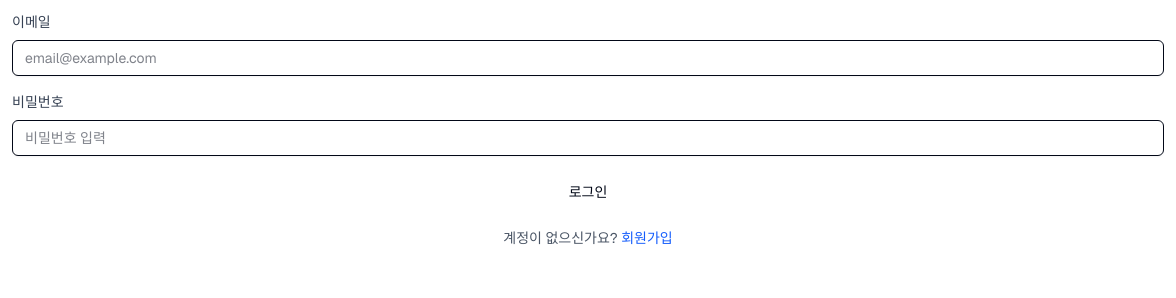
LoginForm › 로그인 실패 › 실패 시 에러 메시지를 표시한다
Type "wrong@example.com" into the field labelled "이메일".
click(588, 58); type("wrong@example.com")  # box [12,40,1164,76]
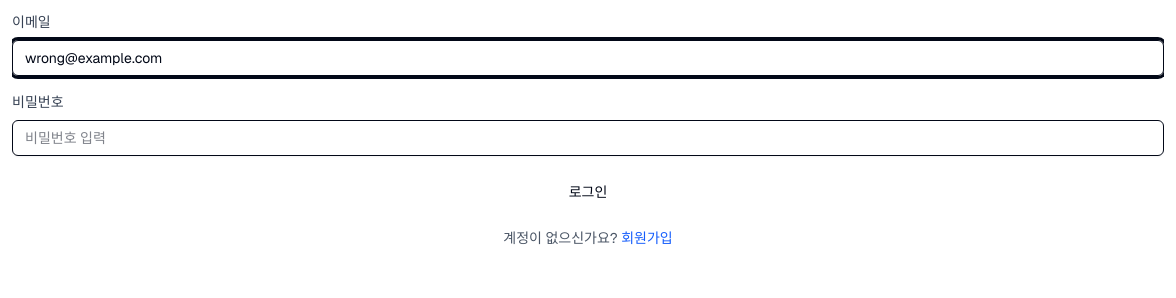
Type "wrongpassword" into the password field labelled "비밀번호".
click(588, 138); type("wrongpassword")  # box [12,120,1164,156]
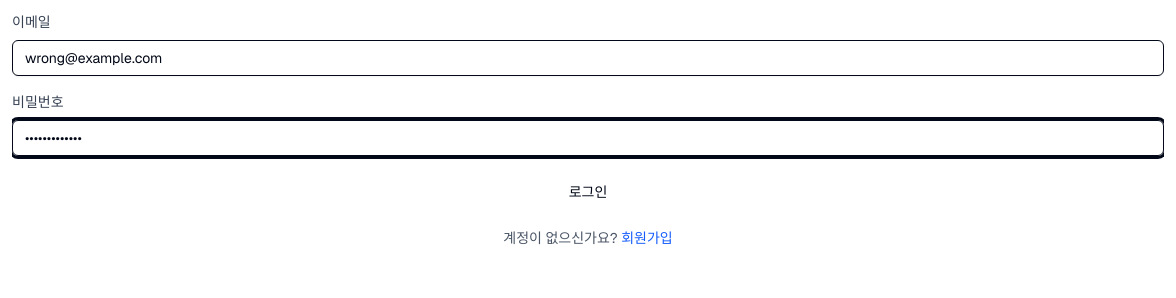
Click the button "로그인".
click(588, 192)  # box [12,172,1164,212]
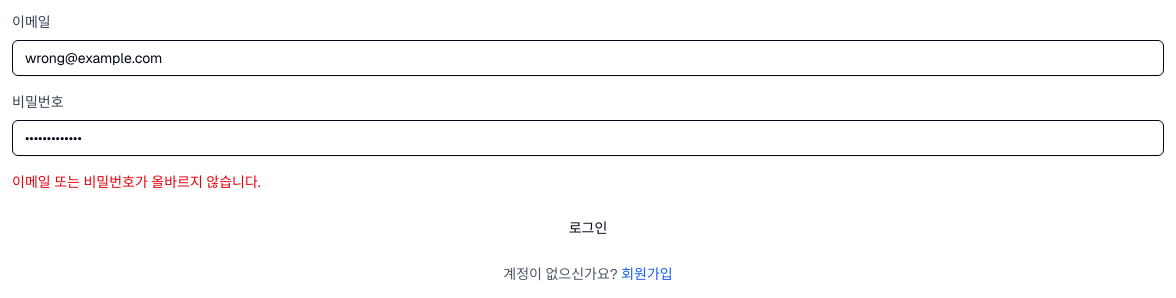
Check: the text "이메일 또는 비밀번호가 올바르지 않습니다." is shown, box [12,173,261,191]
